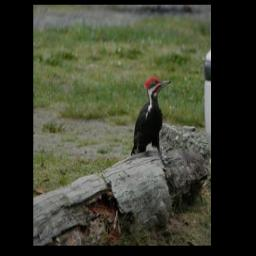Woodpecker: (130, 72, 172, 160)
